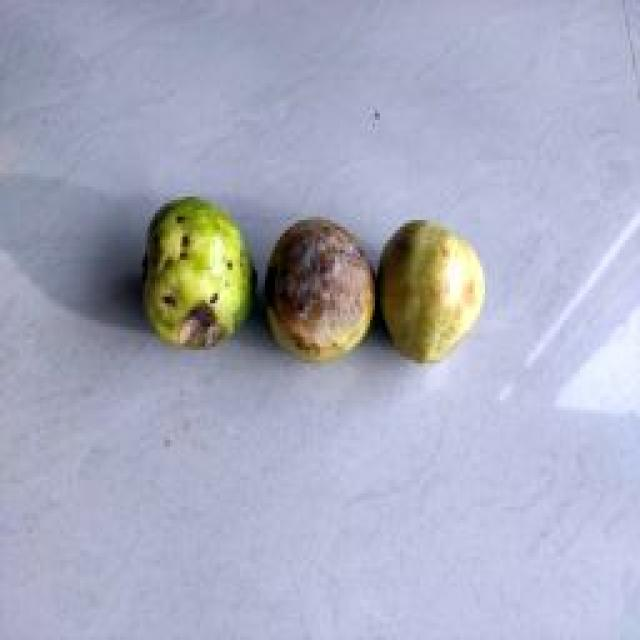Organik: (117, 180, 254, 355), (254, 202, 380, 385), (364, 205, 488, 366)
